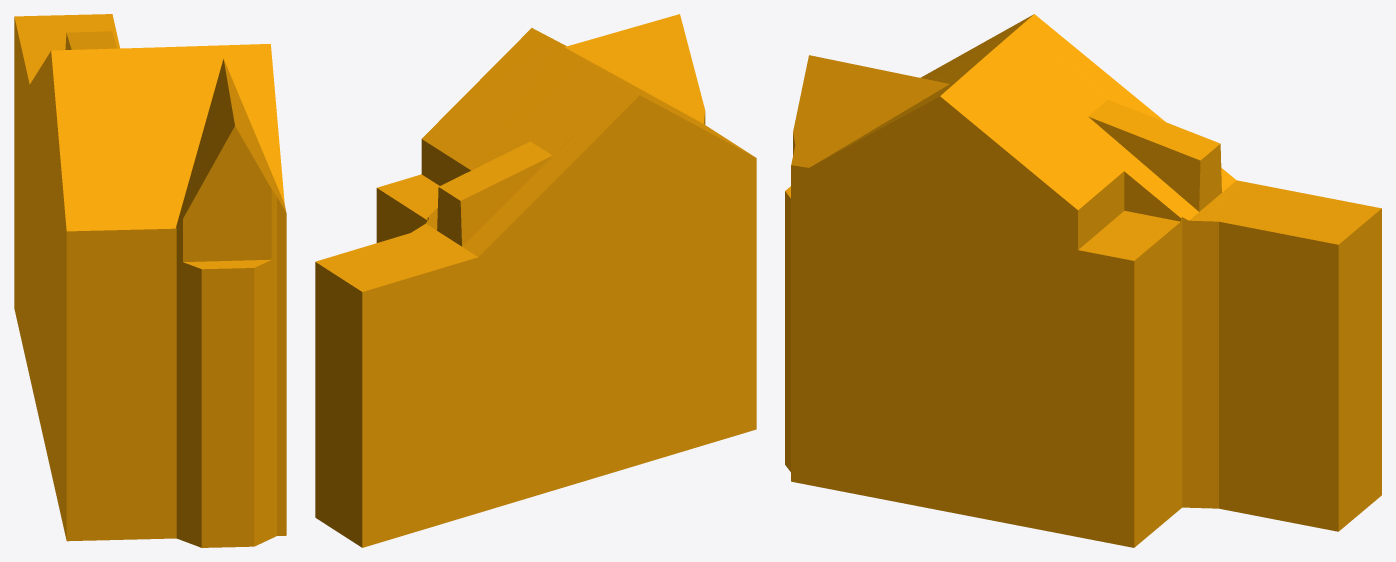
The model's file is DEHB01ALk00017Fm.gltf.
3 views of the same model, side by side, from view 1: azimuth 30°, elevation 25°; view 2: azimuth 150°, elevation 25°; view 3: azimuth 270°, elevation 25° (orthographic). The views are drawn at different scales.
Visible parts, largest first — view 1: Z_UP; view 2: Z_UP; view 3: Z_UP.
Part boxes in pixels (<box>): Z_UP: <box>14,14,286,547</box>; Z_UP: <box>315,14,756,547</box>; Z_UP: <box>785,14,1381,547</box>.
Bounding box in the file's own units: 11.98 × 15.63 × 20.41.
